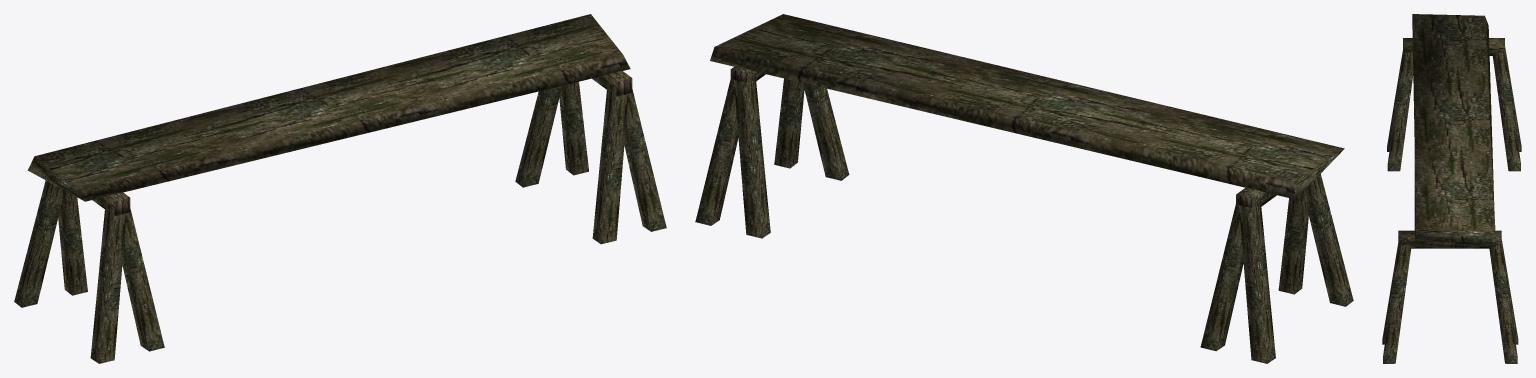
Rendered from OM_ORETABLE.glb.
3 renders of one model, left to right at view 1: azimuth 30°, elevation 25°; view 2: azimuth 150°, elevation 25°; view 3: azimuth 270°, elevation 25°, orthographic. The views are drawn at different scales.
Visible parts, largest first — view 1: Mesh; view 2: Mesh; view 3: Mesh.
Part boxes in pixels (<box>): Mesh: <box>14,14,666,363</box>; Mesh: <box>695,14,1353,363</box>; Mesh: <box>1382,14,1521,363</box>.
Bounding box in the file's own units: 3.03 × 0.8243 × 0.805.
Materials: 2 (2 with a texture image).
